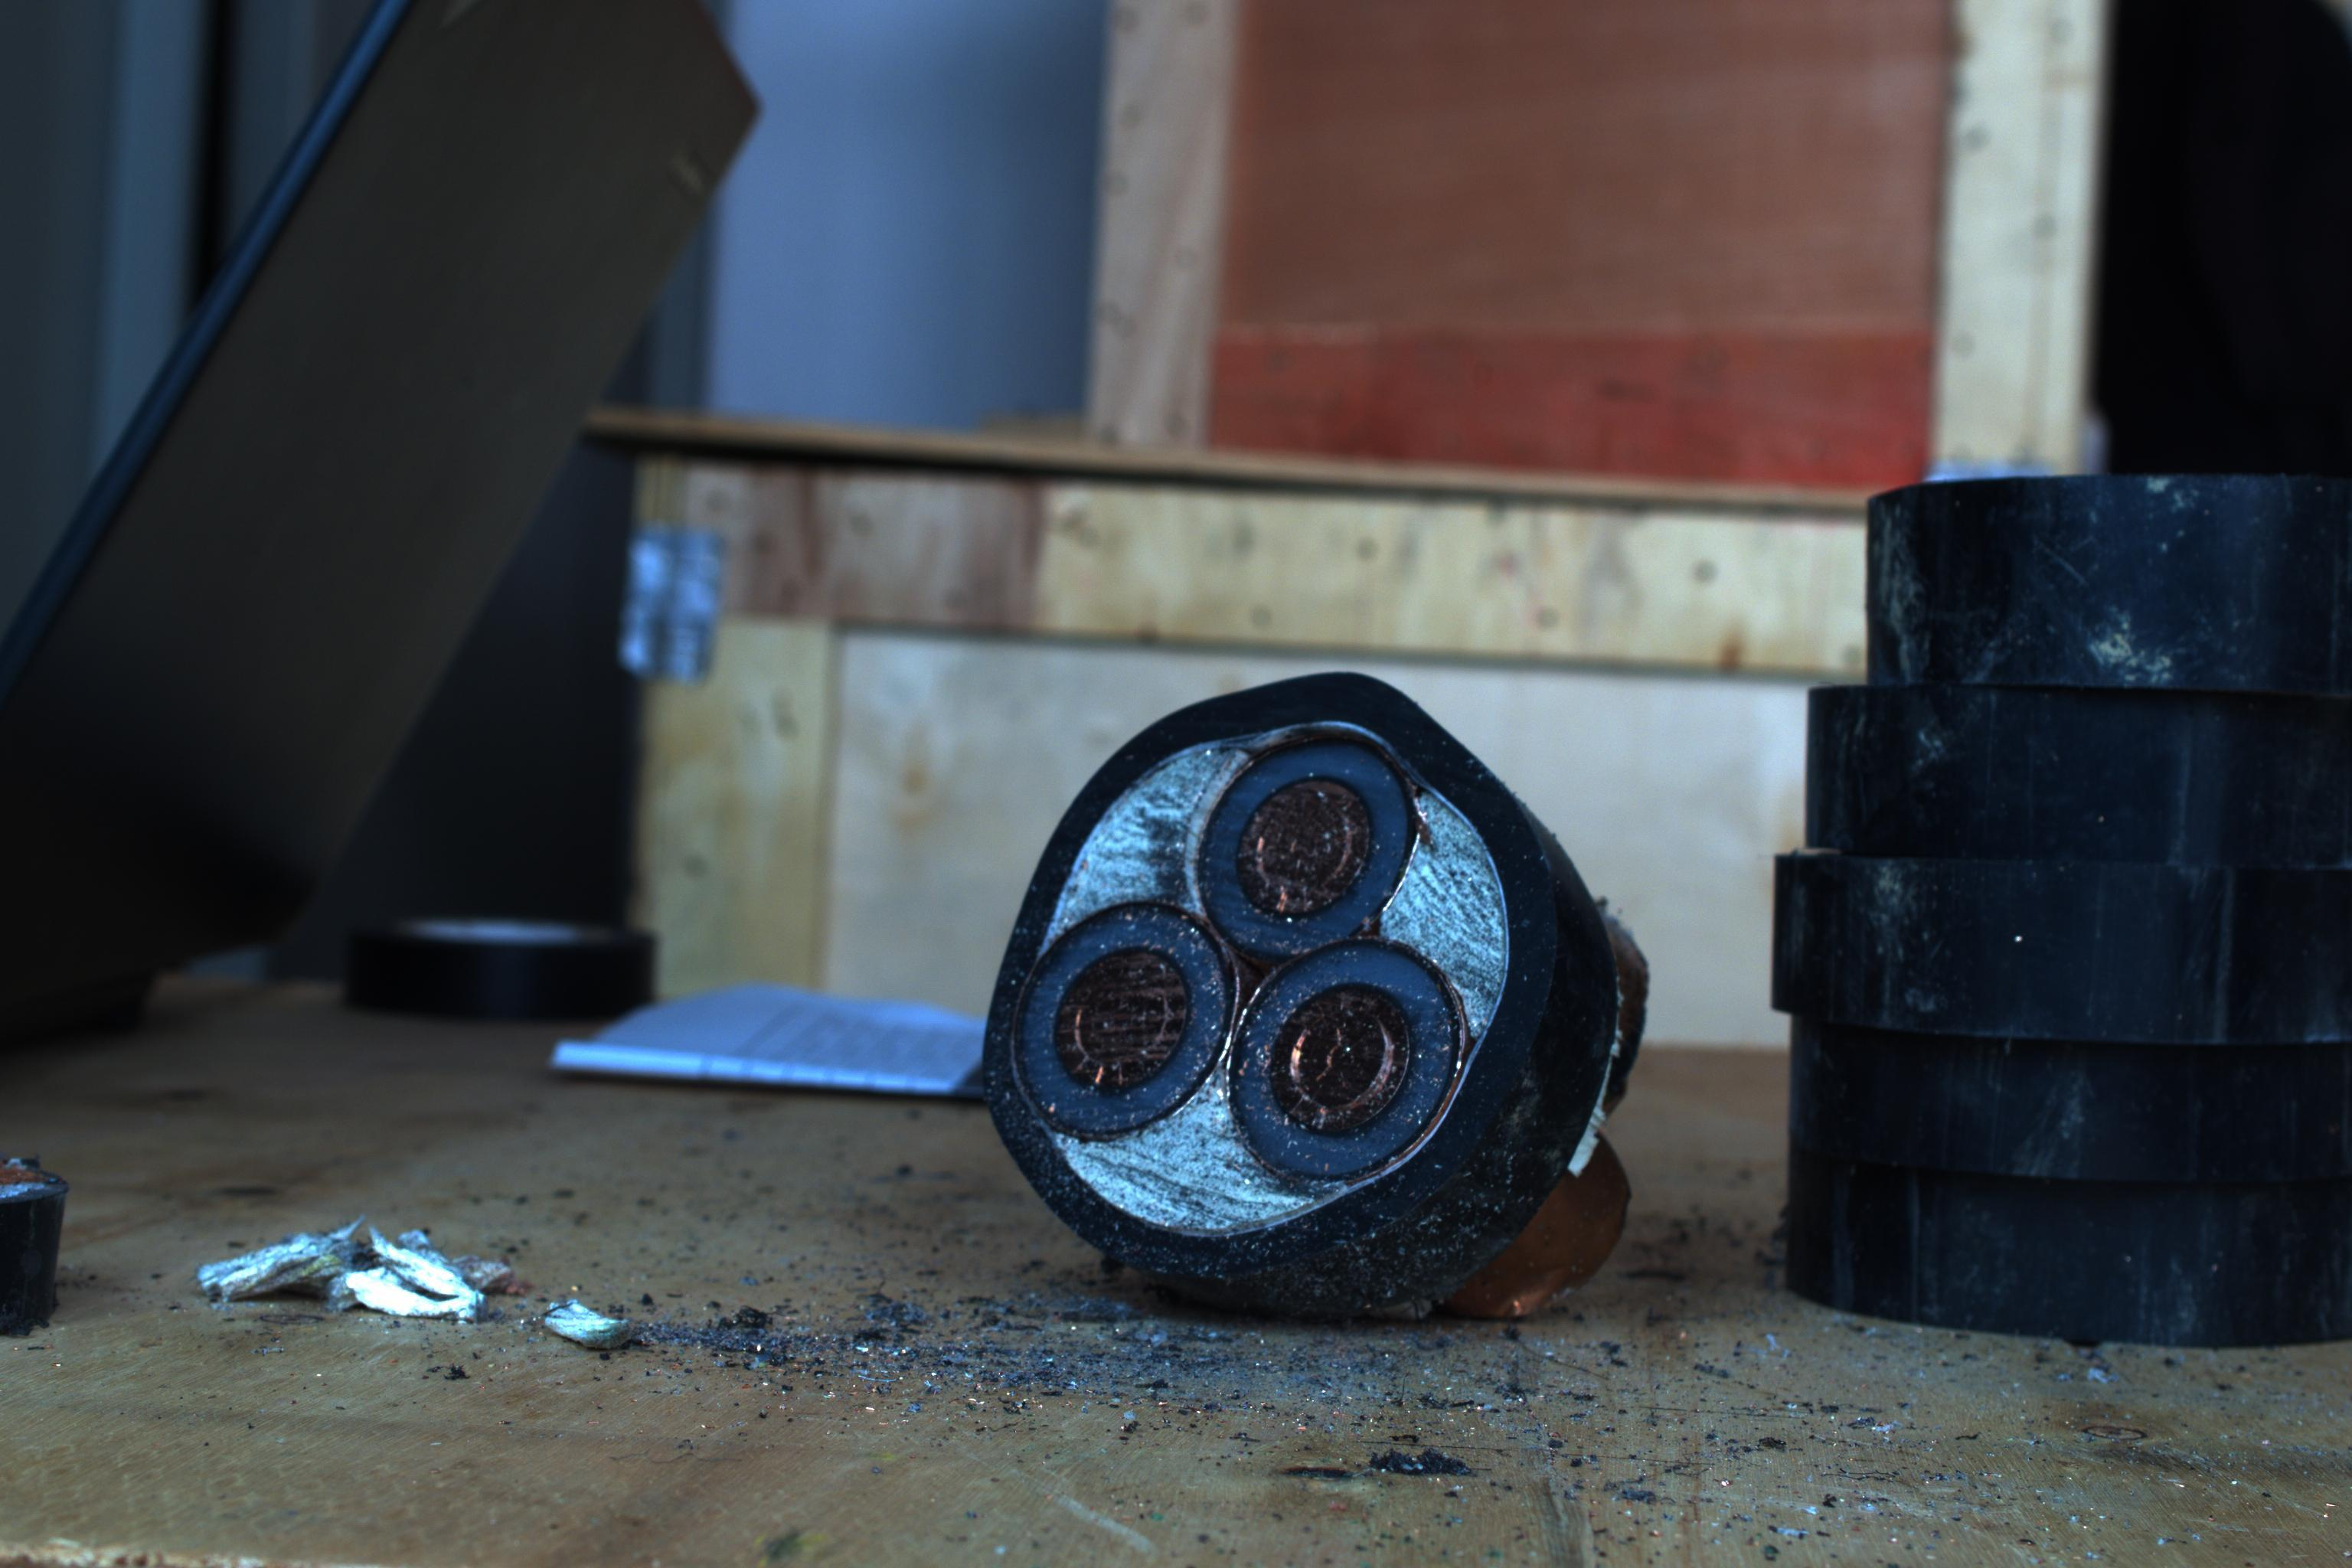ZA_YJV_8.7_10kV_3x240: (1011, 696, 1529, 1225)
